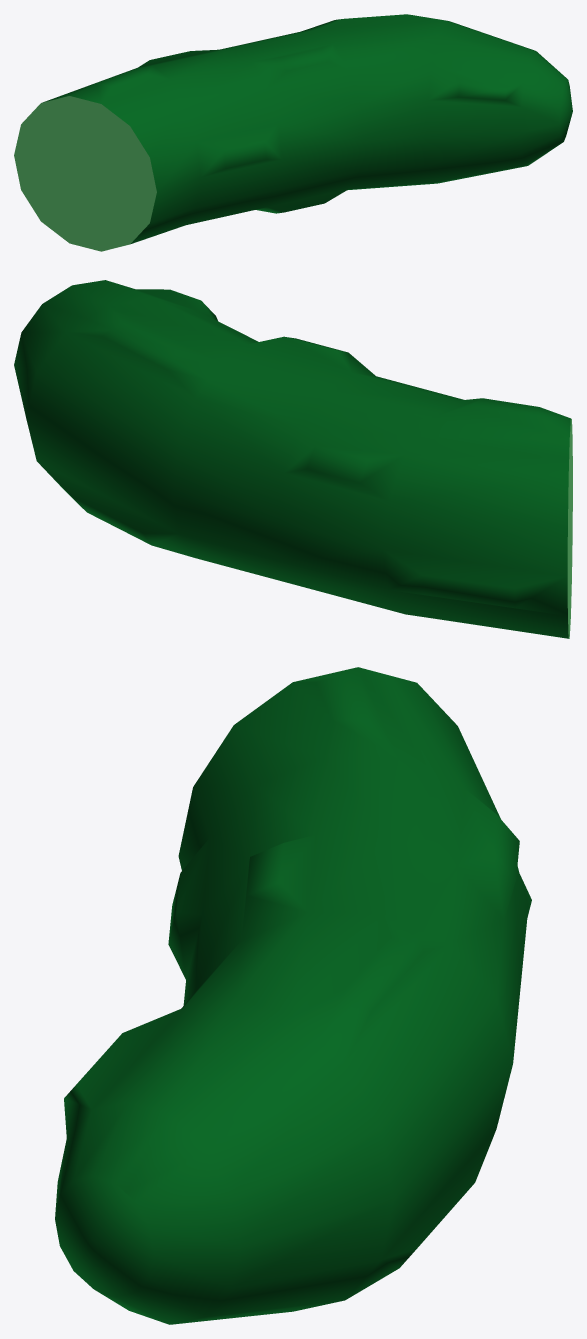
Rendered from mesh_Pickle_Stage04.fbx.
3 views of the same model, one above another, from view 1: azimuth 30°, elevation 25°; view 2: azimuth 150°, elevation 25°; view 3: azimuth 270°, elevation 25° (orthographic). The views are drawn at different scales.
Visible parts, largest first — view 1: mesh_Pickle_Stage04; view 2: mesh_Pickle_Stage04; view 3: mesh_Pickle_Stage04.
Part boxes in pixels (x1,y1,x2,y2): mesh_Pickle_Stage04: (14, 14, 572, 251); mesh_Pickle_Stage04: (14, 280, 572, 638); mesh_Pickle_Stage04: (55, 667, 531, 1324).
Size of the model in its own units: 0.1097 by 0.0356 by 0.0476.
